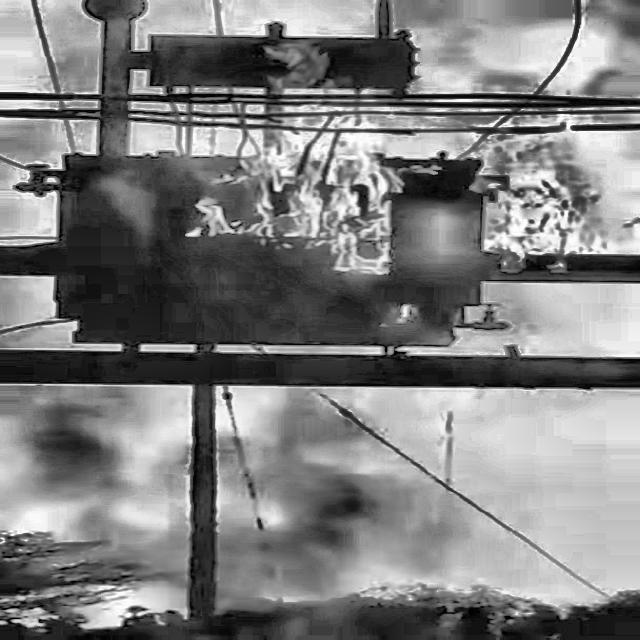Fire: (149, 27, 640, 327)
